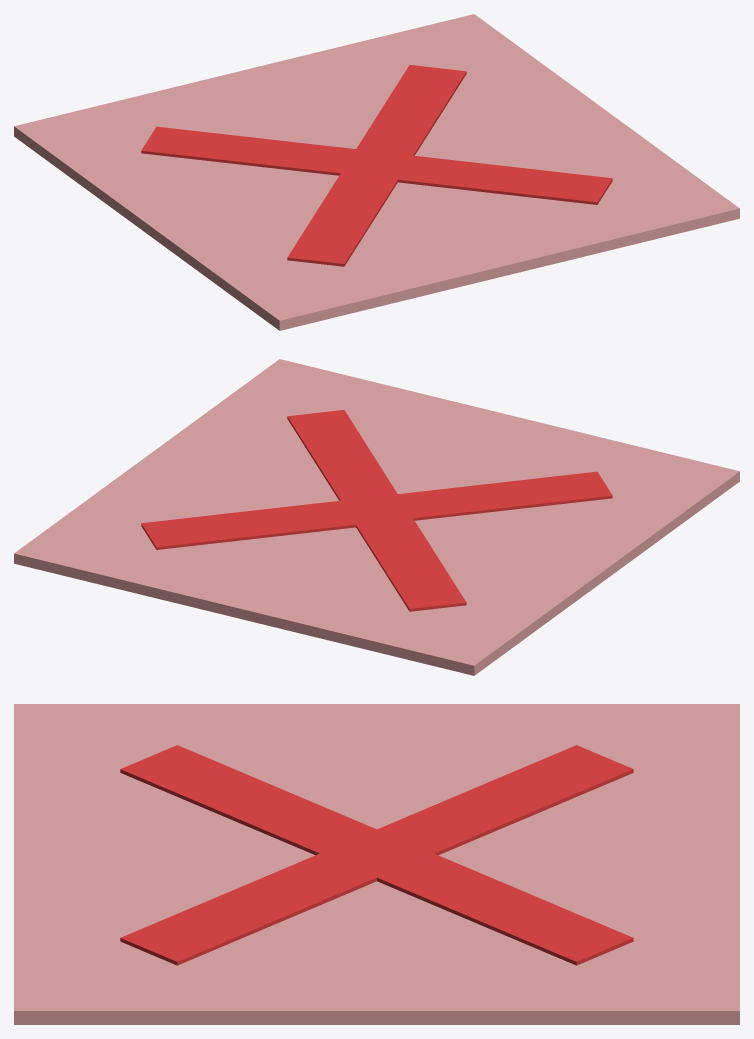
The model's file is mark_x.fbx.
3 views of the same model, one above another, from view 1: azimuth 30°, elevation 25°; view 2: azimuth 150°, elevation 25°; view 3: azimuth 270°, elevation 25° (orthographic). The views are drawn at different scales.
Parts seen in each view (by area): view 1: pCube3, polySurface2; view 2: pCube3, polySurface2; view 3: pCube3, polySurface2.
Boxes of the visible parts, x1,y1,x2,y2 form: pCube3: (14, 14, 739, 330); polySurface2: (141, 65, 612, 266); pCube3: (14, 359, 739, 675); polySurface2: (141, 410, 612, 611); pCube3: (14, 704, 739, 1024); polySurface2: (120, 745, 633, 965).
Size of the model in its own units: 0.9 by 0.0245 by 0.9.
